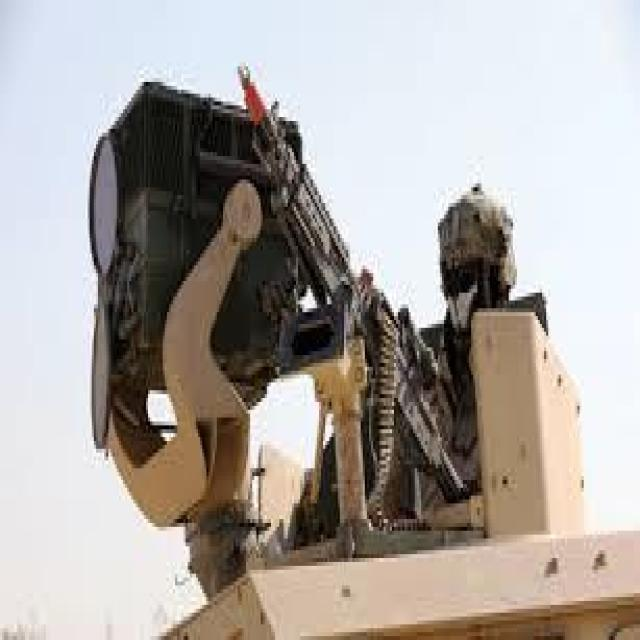MIL_MBT: (217, 306, 571, 630)
